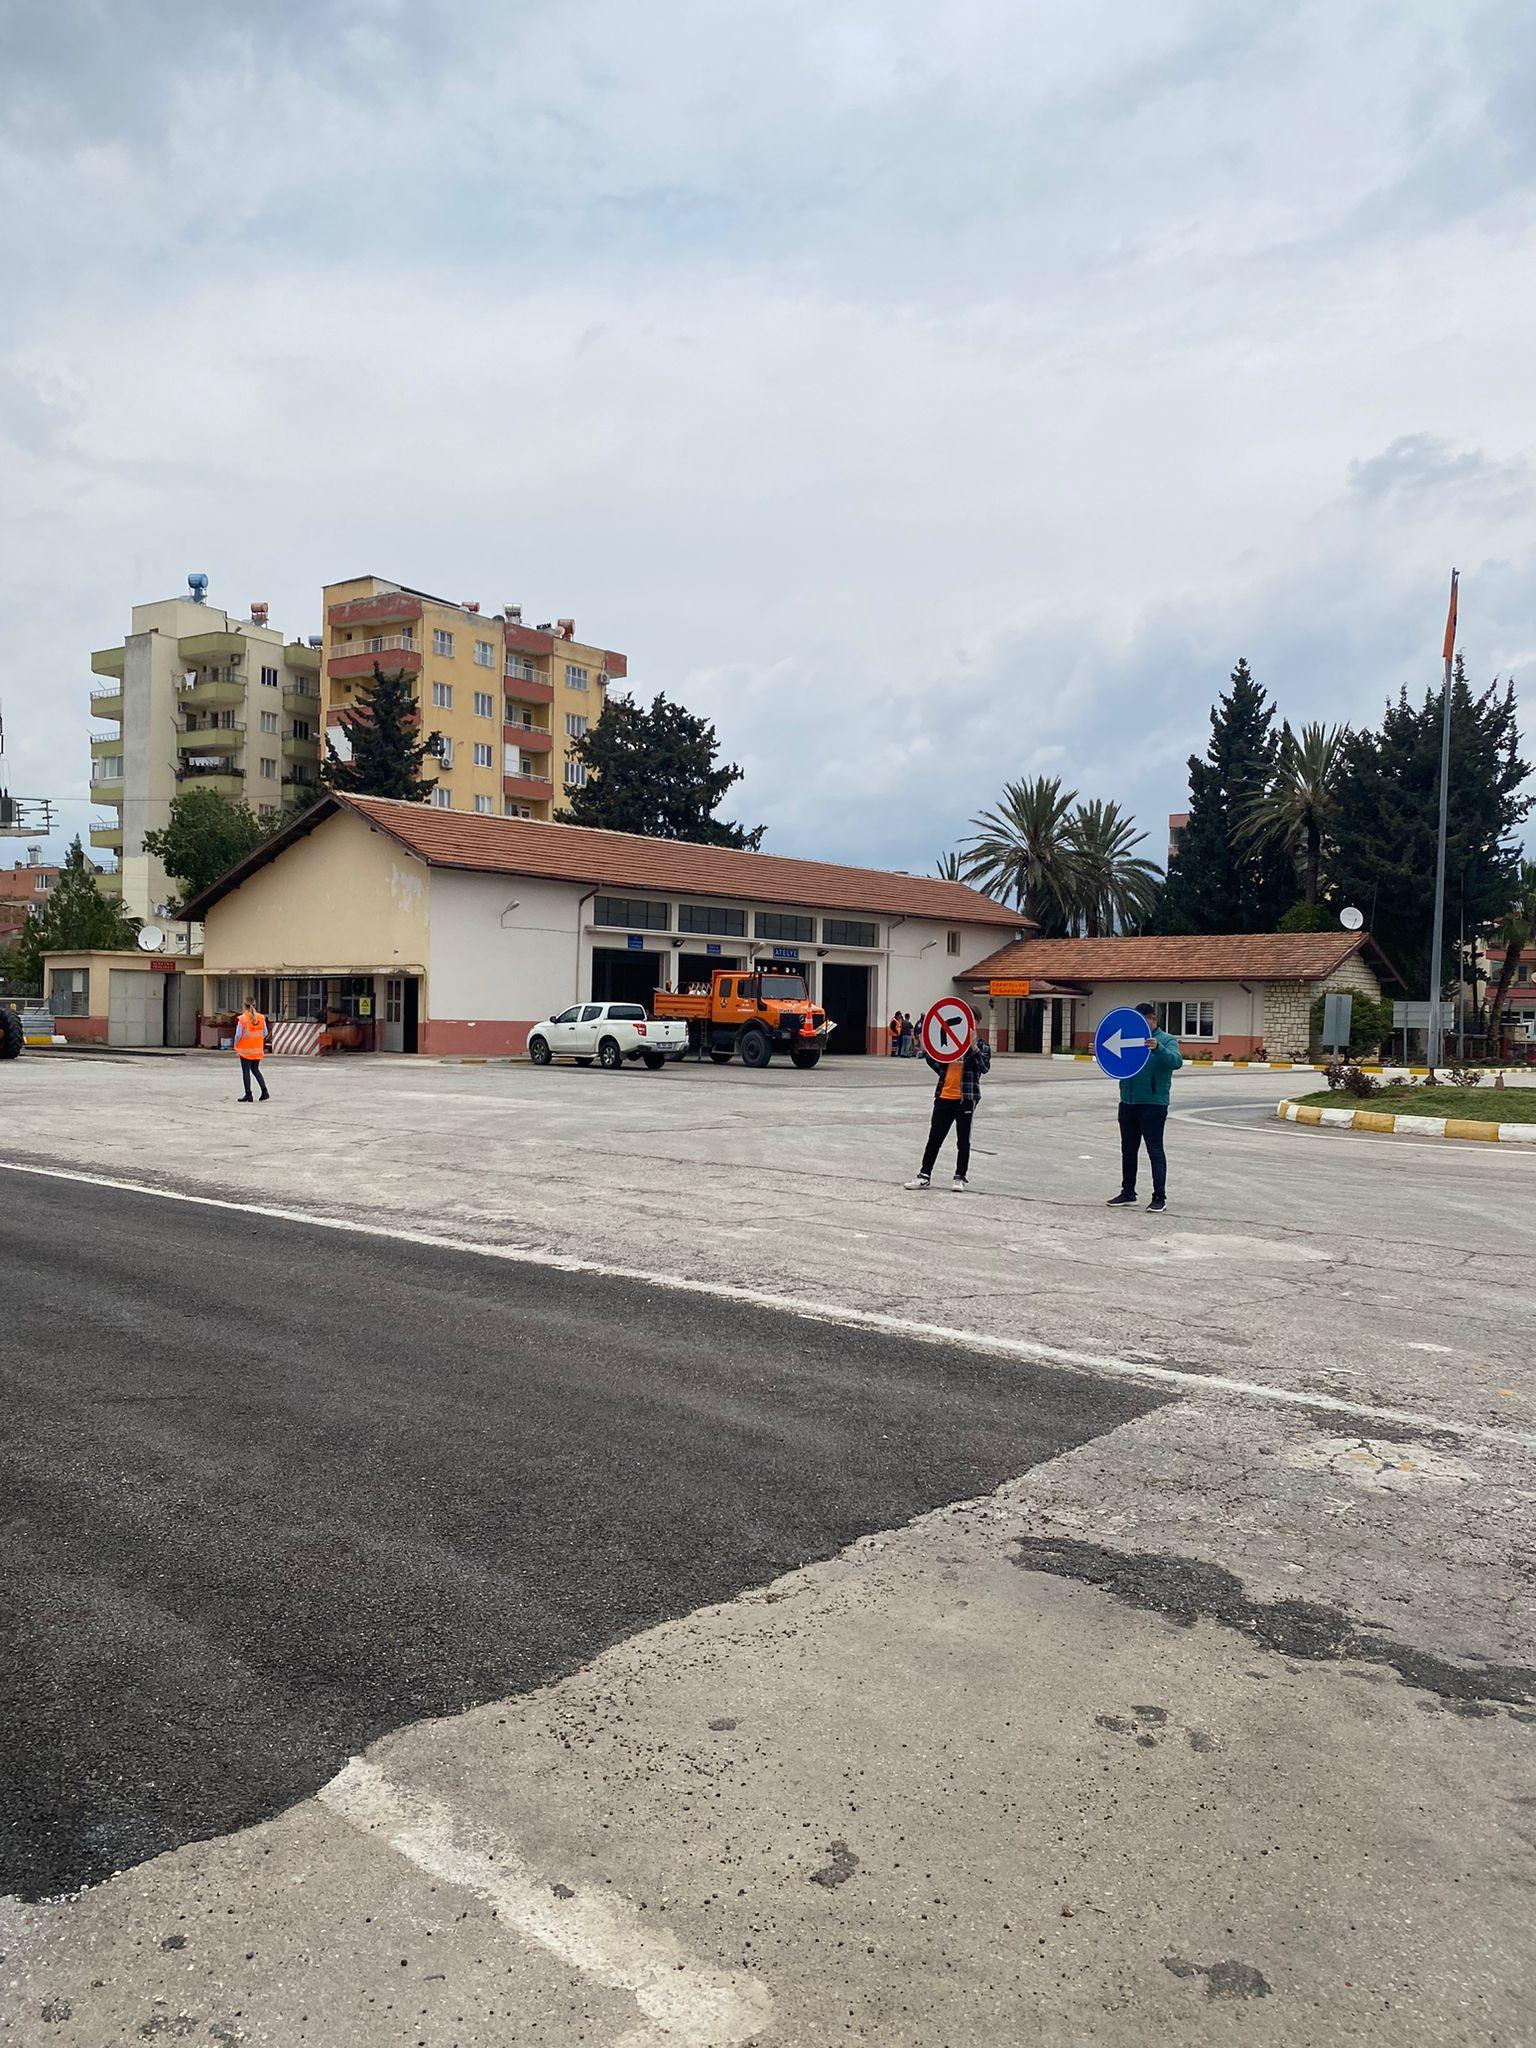rightturnsareforbidden: (920, 995, 975, 1059)
turnleft: (1092, 1006, 1154, 1077)
